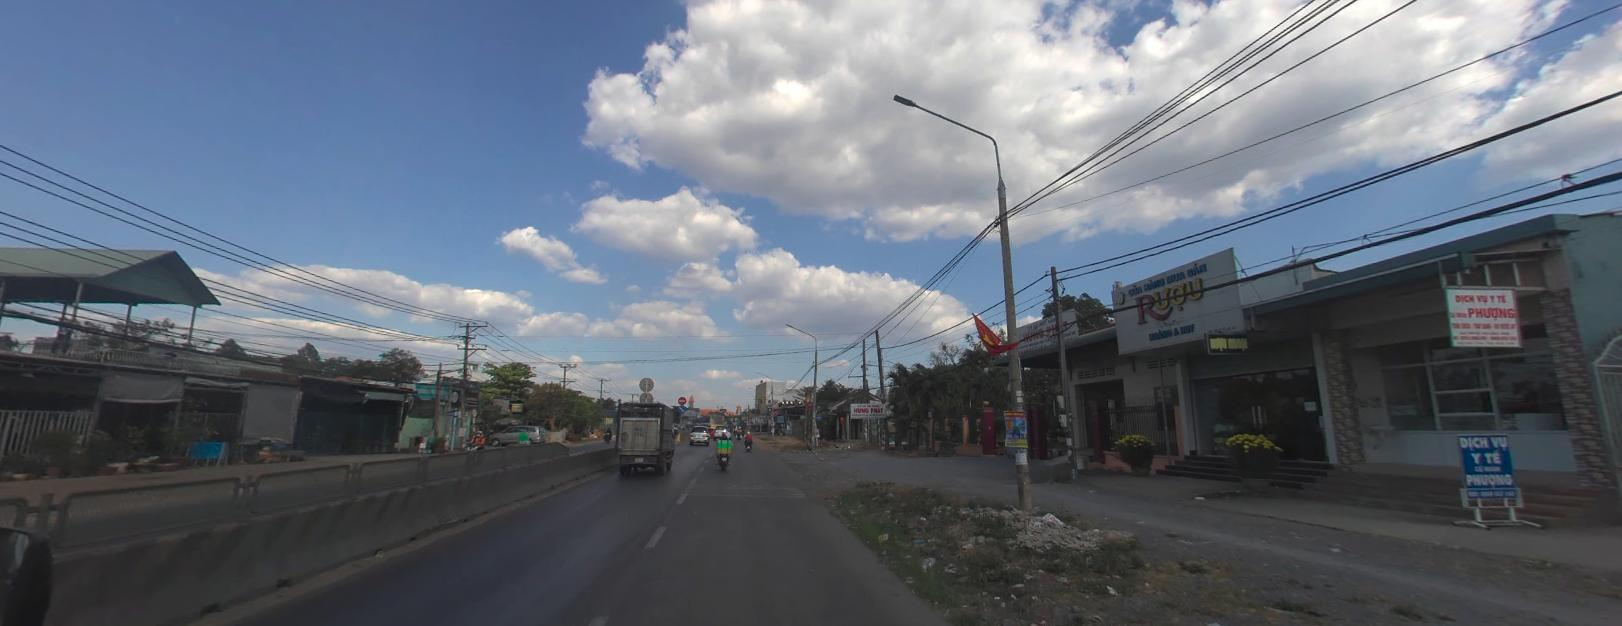Cam nguoc chieu: (678, 395, 686, 403)
Hieu lenh: (678, 404, 685, 411)
